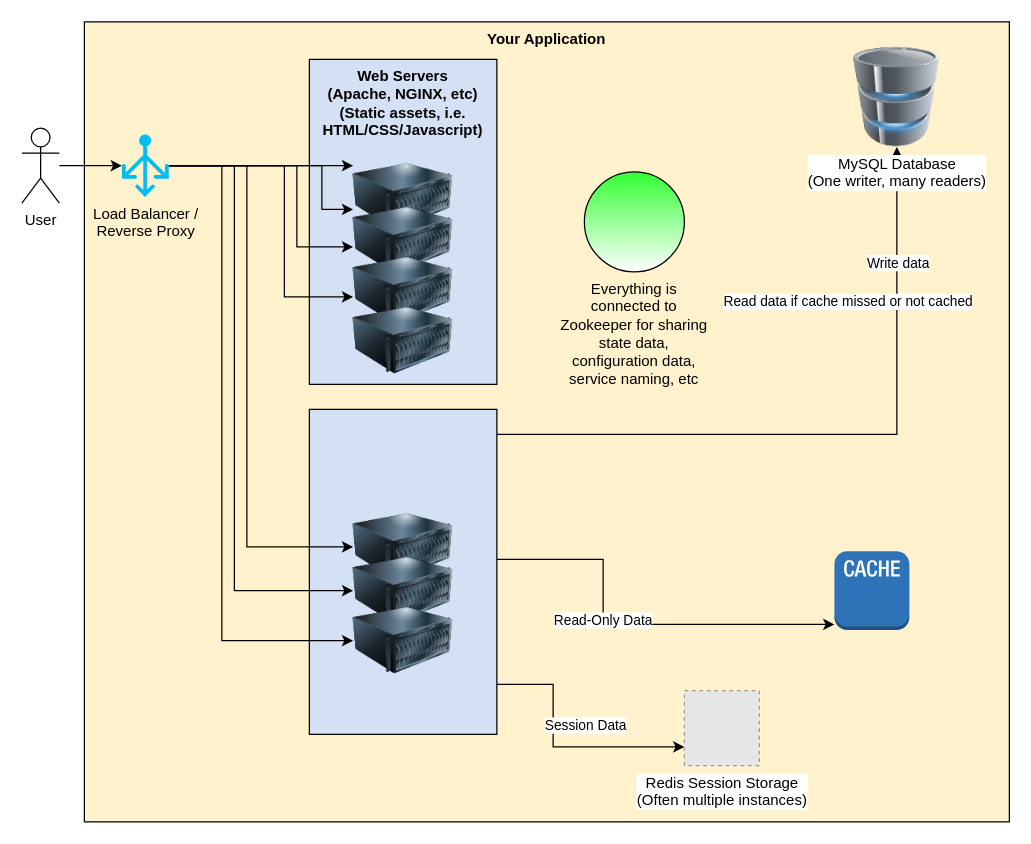
This 1031x844 diagram has some shape labels left out. Grey dashed boxes stand in for pictures. The shapes that lost their labels are listed below. From the top down, each one's box as (x1, y1, x2, y2) in pixels, then its label:
(583, 171, 684, 272): Zookeeper
(308, 408, 497, 734): Application Servers (WAS) (NodeJS, .NET, PHP, Django, etc)
(833, 550, 909, 630): Memcached (Often multiple instances)
